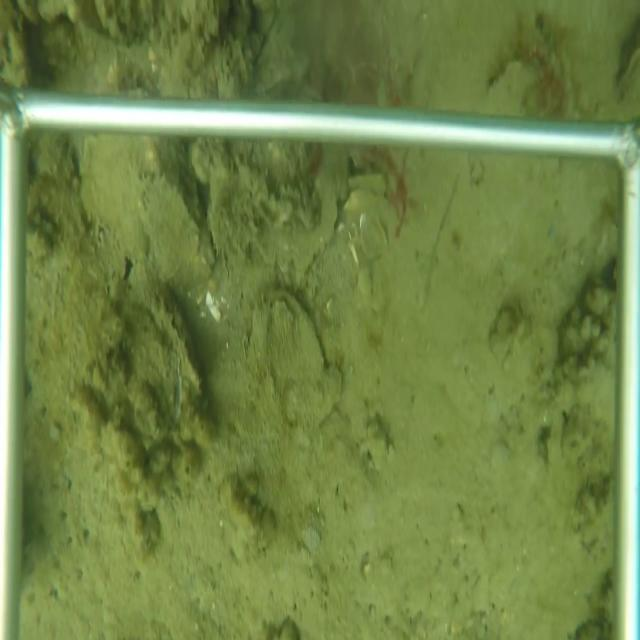Oyster-Closed: (145, 282, 210, 413)
Oyster-Indeterminate: (236, 282, 343, 444)
